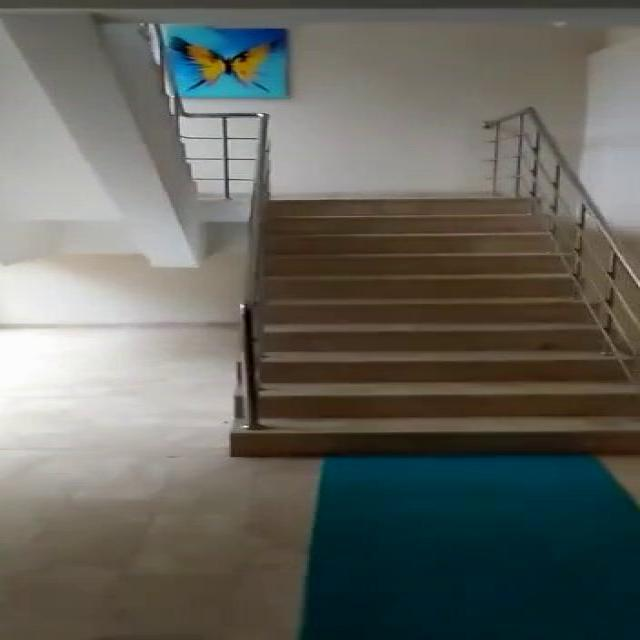stair: (232, 191, 640, 453)
